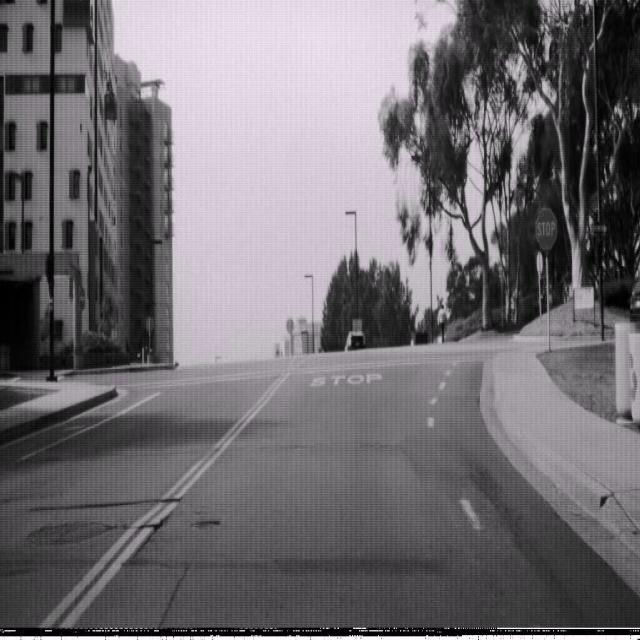stop: (534, 206, 558, 251)
